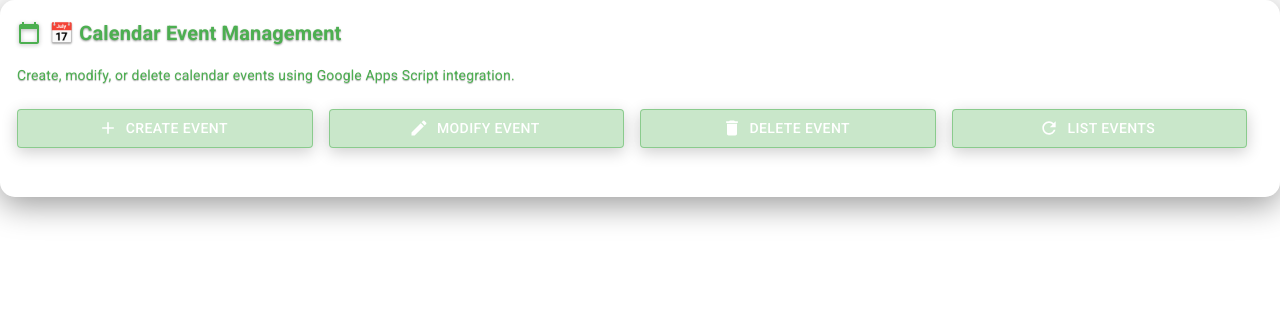
Test: SimpleCalendarTest Component › List Events › lists calendar events successfully
Click the button "List Events" at (1099, 128), box [952, 109, 1247, 148]
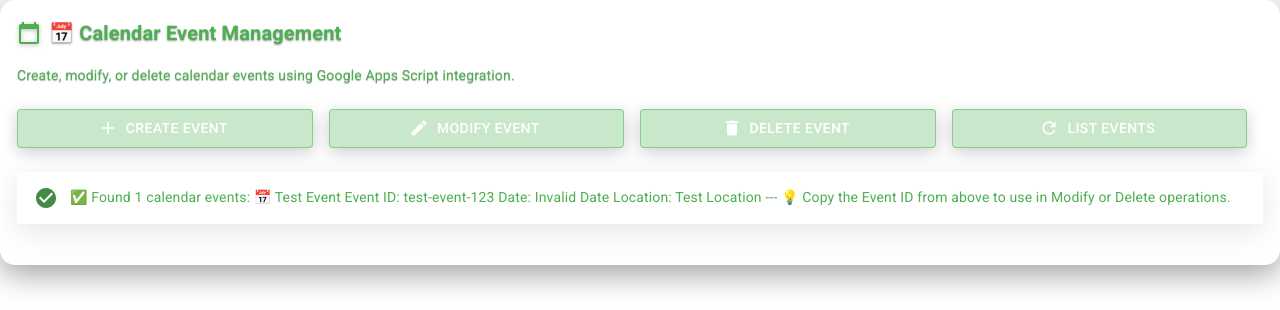
Expected: the text "Copy the Event ID from above" is shown, [70, 188, 1231, 204]
